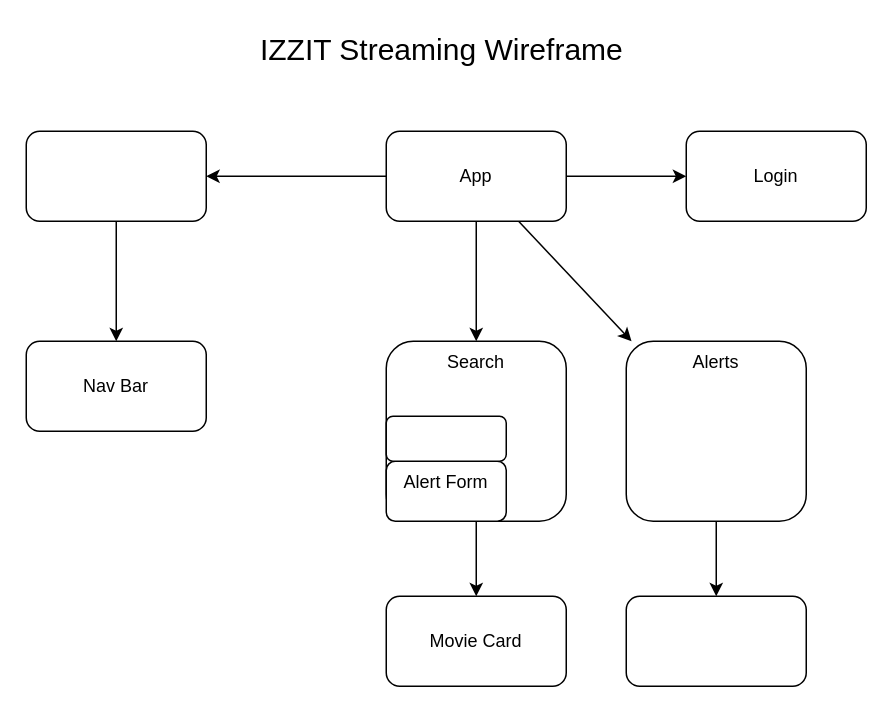
Some shapes in this 893 by 713 pixel diagram are drawn without their labels. Each missing label, with the centre of its shape:
Alert Card: point 715,640
Header: point 115,175
Search Form: point 445,438
